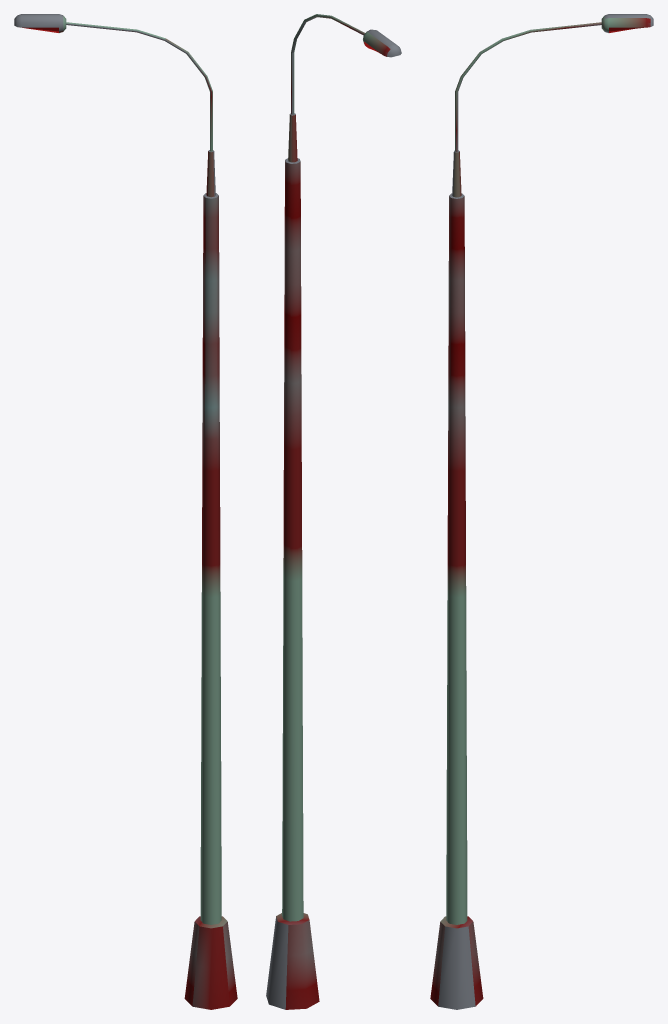
Rendered from SM_StreetLight_v01.FBX.
3 renders of one model, left to right at view 1: azimuth 90°, elevation 25°; view 2: azimuth 210°, elevation 25°; view 3: azimuth 270°, elevation 25°, orthographic. The views are drawn at different scales.
Visible parts, largest first — view 1: StreetLight_tall_v1; view 2: StreetLight_tall_v1; view 3: StreetLight_tall_v1.
Part boxes in pixels (x1,y1,x2,y2): StreetLight_tall_v1: [14, 14, 237, 1009]; StreetLight_tall_v1: [266, 14, 401, 1009]; StreetLight_tall_v1: [430, 14, 653, 1009].
Bounding box in the file's own units: 0.7581 × 15.52 × 3.19.
Materials: 2 (2 with a texture image).
